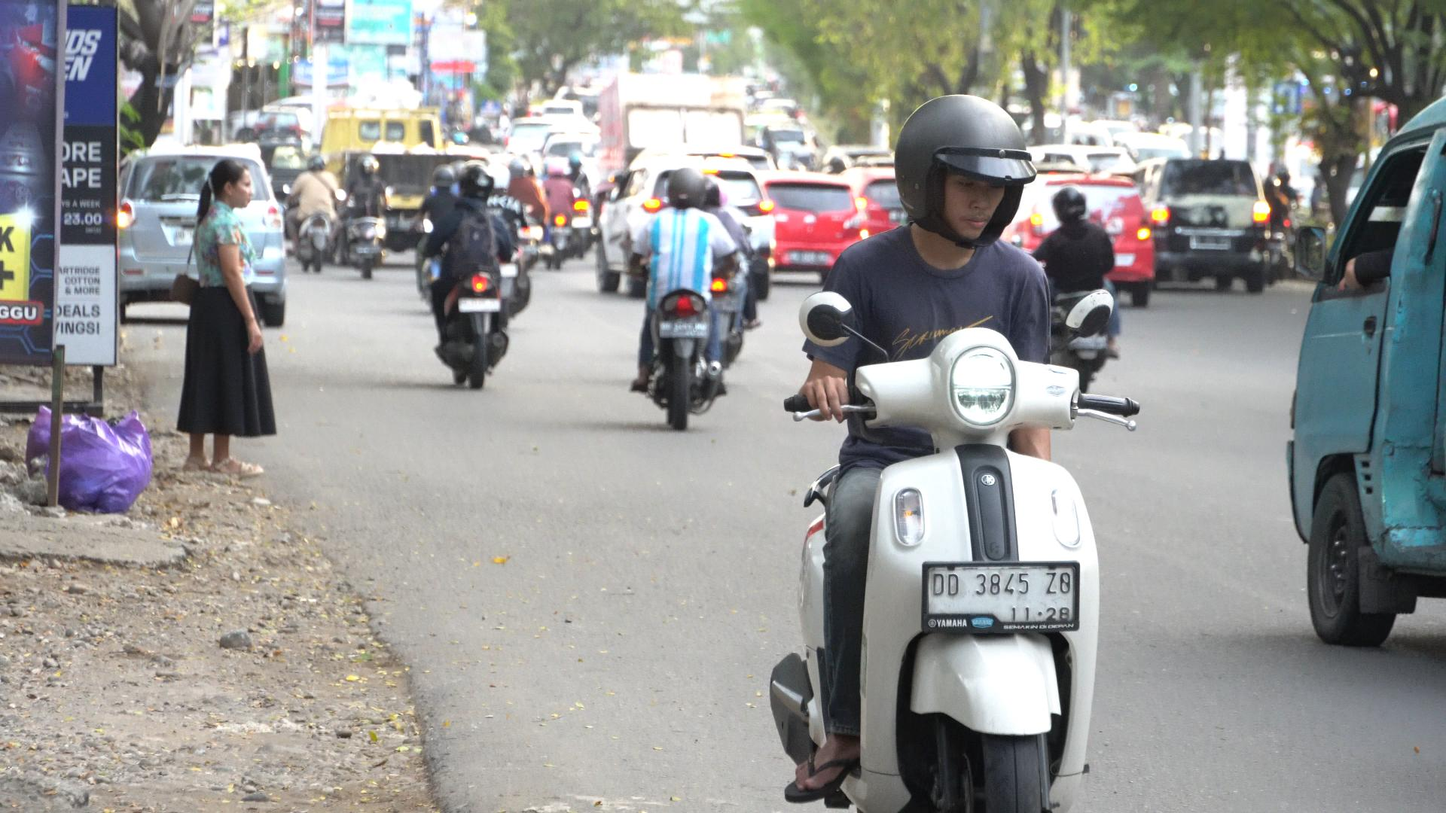number-plate: (922, 562, 1079, 635)
